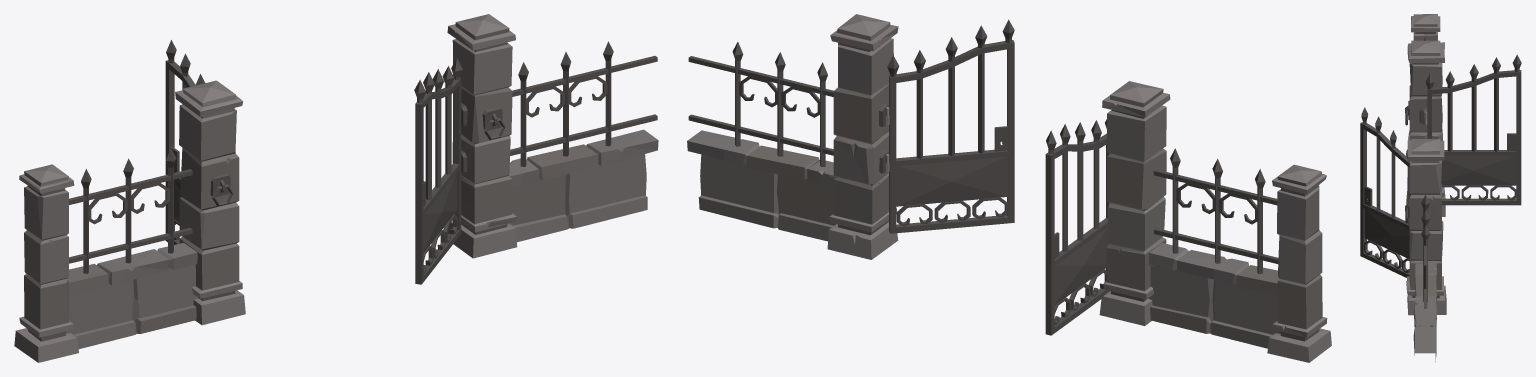
The model's file is Gate.fbx.
3 renders of one model, left to right at view 1: azimuth 30°, elevation 25°; view 2: azimuth 150°, elevation 25°; view 3: azimuth 270°, elevation 25°, orthographic. The views are drawn at different scales.
Visible parts, largest first — view 1: gate_graveyard_door_l; view 2: gate_graveyard_door_l; view 3: gate_graveyard_door_l.
Part boxes in pixels (left/top/right/bottom): gate_graveyard_door_l: left=14, top=14, right=658, bottom=362; gate_graveyard_door_l: left=687, top=14, right=1331, bottom=362; gate_graveyard_door_l: left=1360, top=14, right=1521, bottom=361.
Size of the model in its own units: 526 by 178 by 158.
